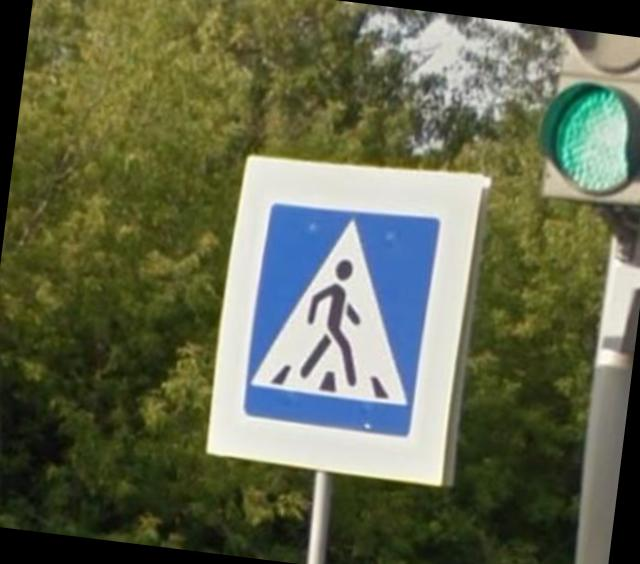crosswalk-sign: (203, 142, 495, 491)
